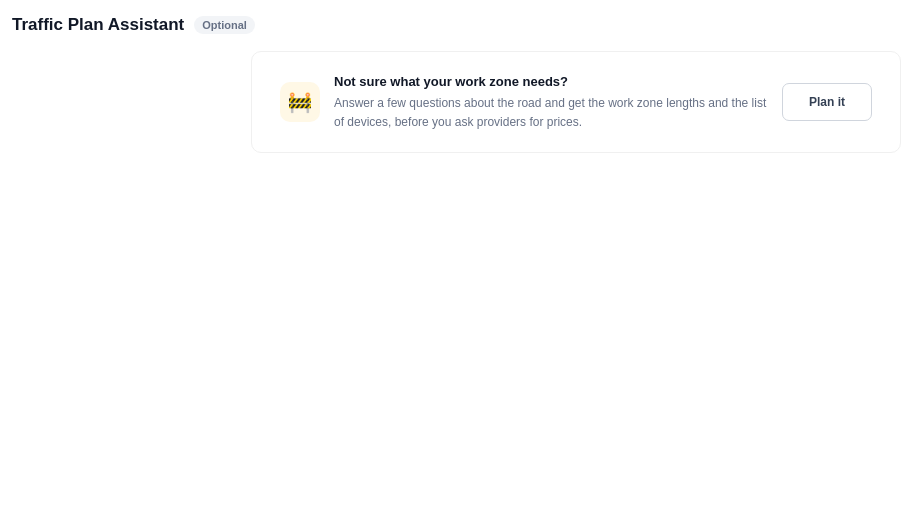
Test: AiTrafficPlan › يفتح ويقفل النموذج
Expected: the field labelled "Closure type" is not shown
Click the button "Plan it".
click(827, 102)  # box [782,83,872,121]
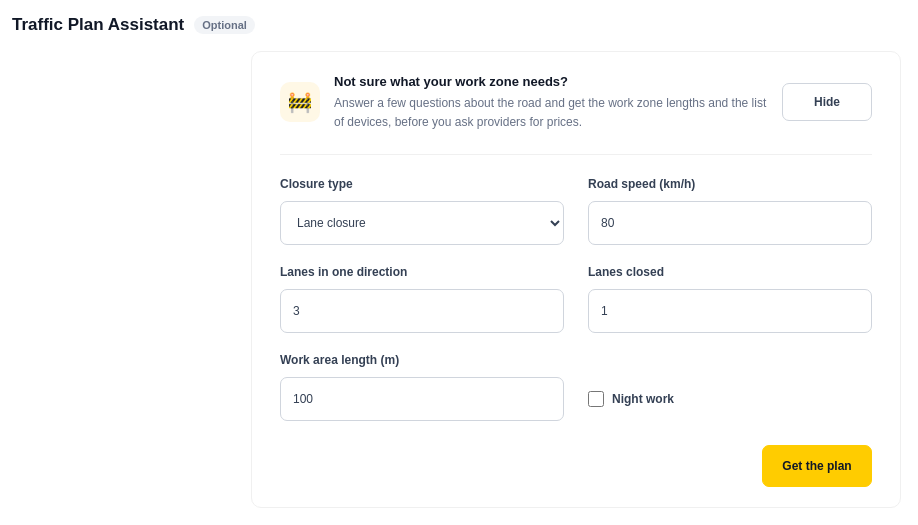
Now the dropdown labelled "Closure type" is shown, box [280,201,564,245]
Click the button "Hide".
click(827, 102)  # box [782,83,872,121]
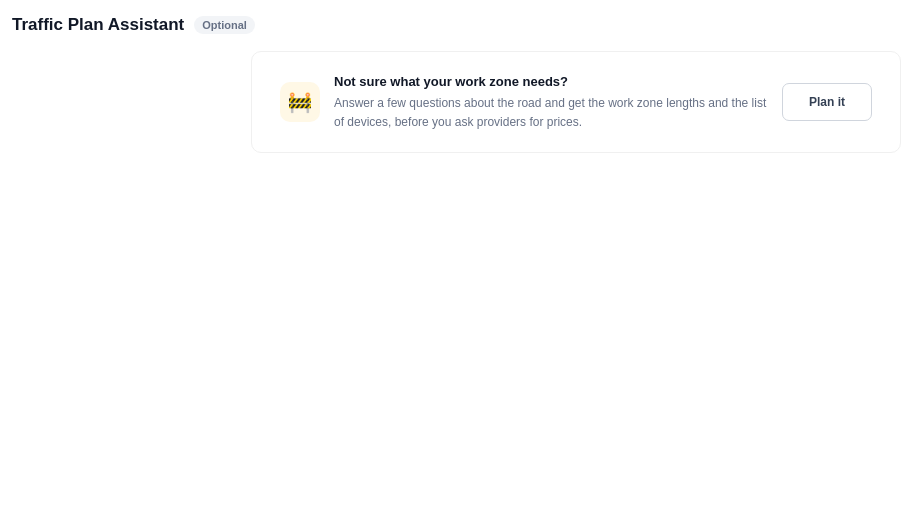
Now the label labelled "Closure type" is gone
